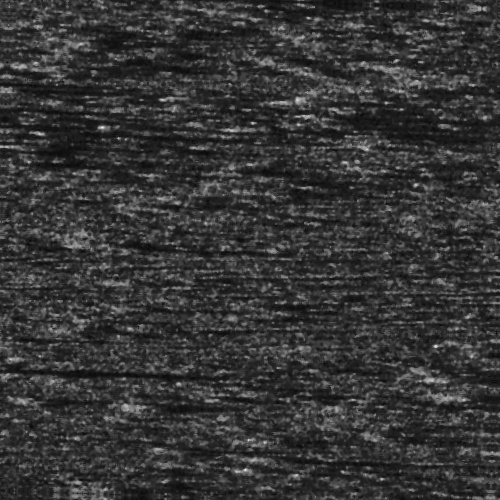object: (82, 245, 113, 254), (305, 111, 346, 116), (0, 149, 32, 154)
shadow: (98, 245, 223, 254), (325, 111, 500, 116), (11, 149, 134, 154), (0, 113, 86, 120)
